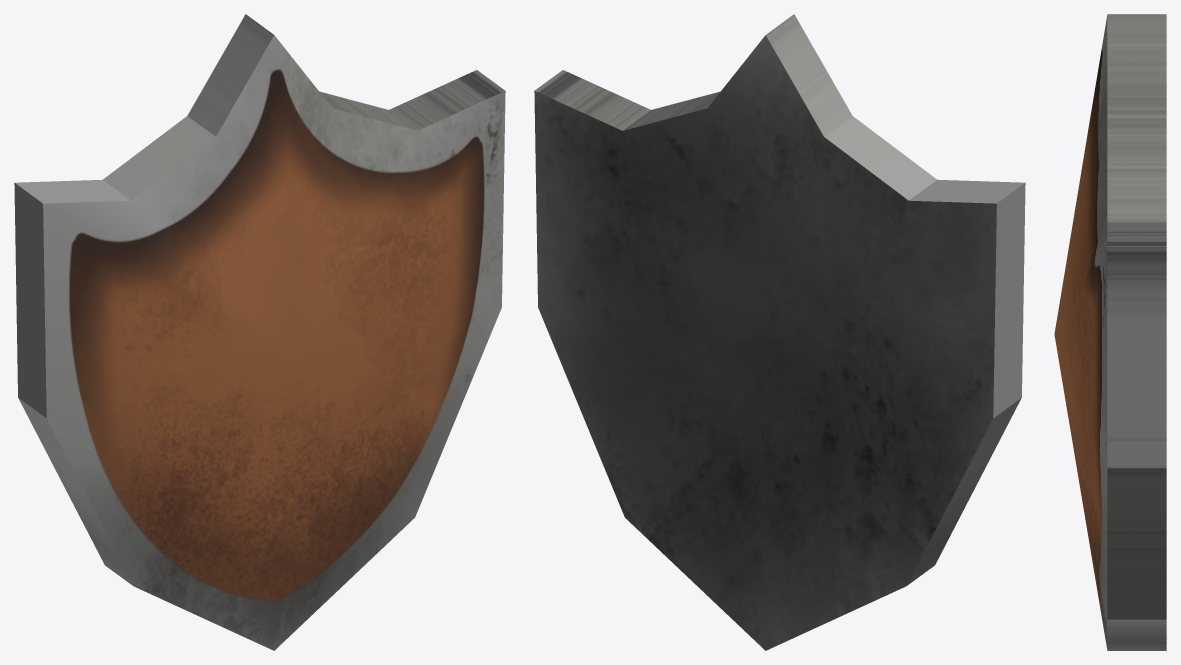
Rendered from shield.fbx.
3 views of the same model, side by side, from view 1: azimuth 30°, elevation 25°; view 2: azimuth 150°, elevation 25°; view 3: azimuth 270°, elevation 25° (orthographic). The views are drawn at different scales.
Visible parts, largest first — view 1: pCylinder1; view 2: pCylinder1; view 3: pCylinder1.
Boxes of the visible parts, left/top/right/bottom form: pCylinder1: left=14, top=14, right=505, bottom=650; pCylinder1: left=534, top=14, right=1025, bottom=650; pCylinder1: left=1054, top=14, right=1166, bottom=650.
Bounding box in the file's own units: 4.95 × 6.3 × 1.01.
